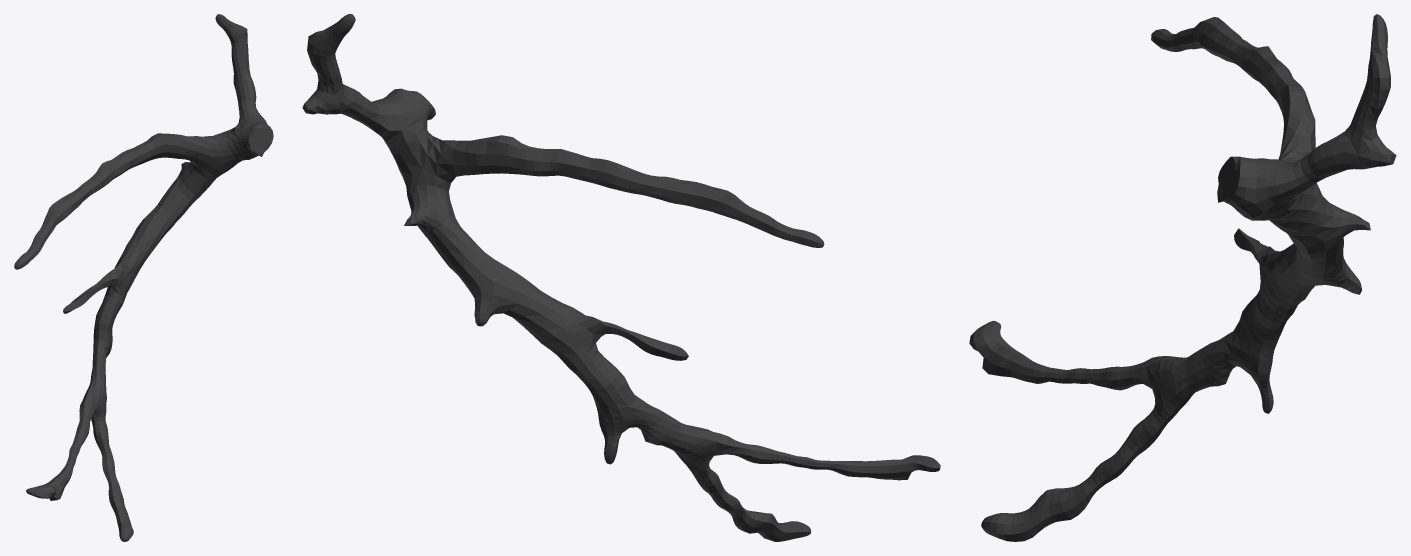
Rendered from Right_cranial_lobe_bronchus.glb.
The picture shows the model from 3 angles, left to right: view 1: azimuth 30°, elevation 25°; view 2: azimuth 150°, elevation 25°; view 3: azimuth 270°, elevation 25°; orthographic projection. The views are drawn at different scales.
Parts seen in each view (by area): view 1: Right_cranial_lobe_bronchus; view 2: Right_cranial_lobe_bronchus; view 3: Right_cranial_lobe_bronchus.
Part boxes in pixels (box(x1,y1,x2,y2)): Right_cranial_lobe_bronchus: box(14, 14, 273, 541); Right_cranial_lobe_bronchus: box(302, 14, 940, 541); Right_cranial_lobe_bronchus: box(969, 14, 1396, 541).
Size of the model in its own units: 3.2 by 3.64 by 2.03.
Materials: 1 (1 with a texture image).
